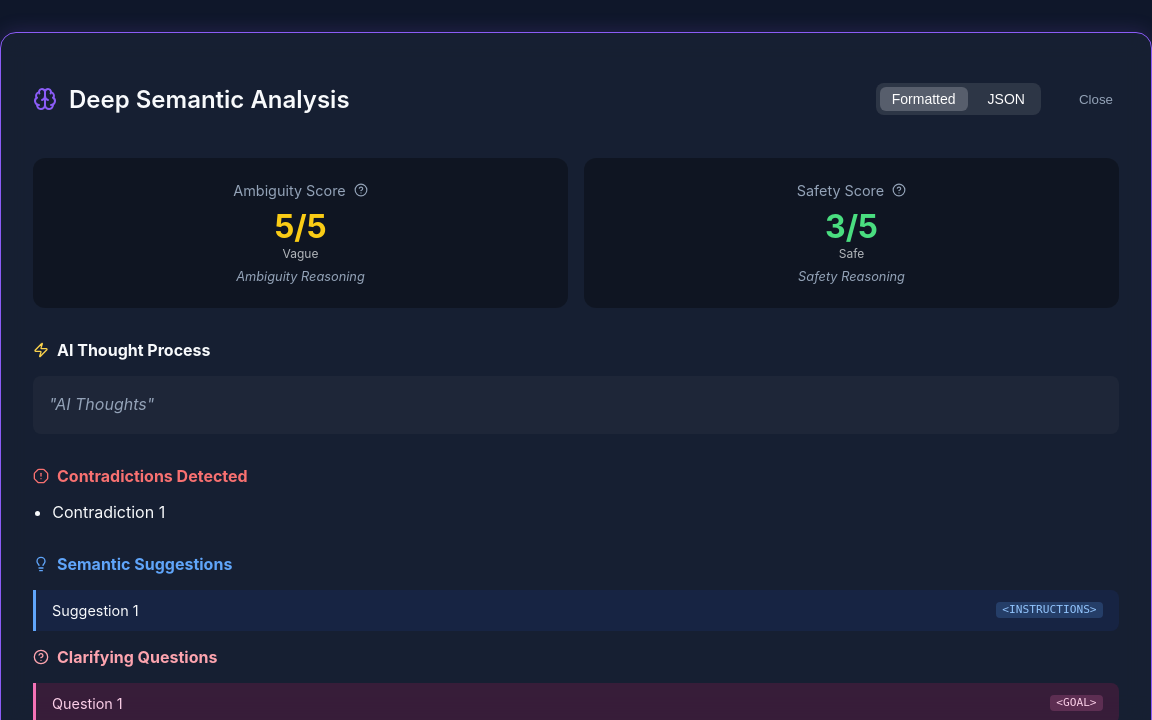
Test case: DeepAnalysisResults Component › shows tooltips on hover
Hover over the text "Ambiguity Score": (300, 190) [233,182,368,199]
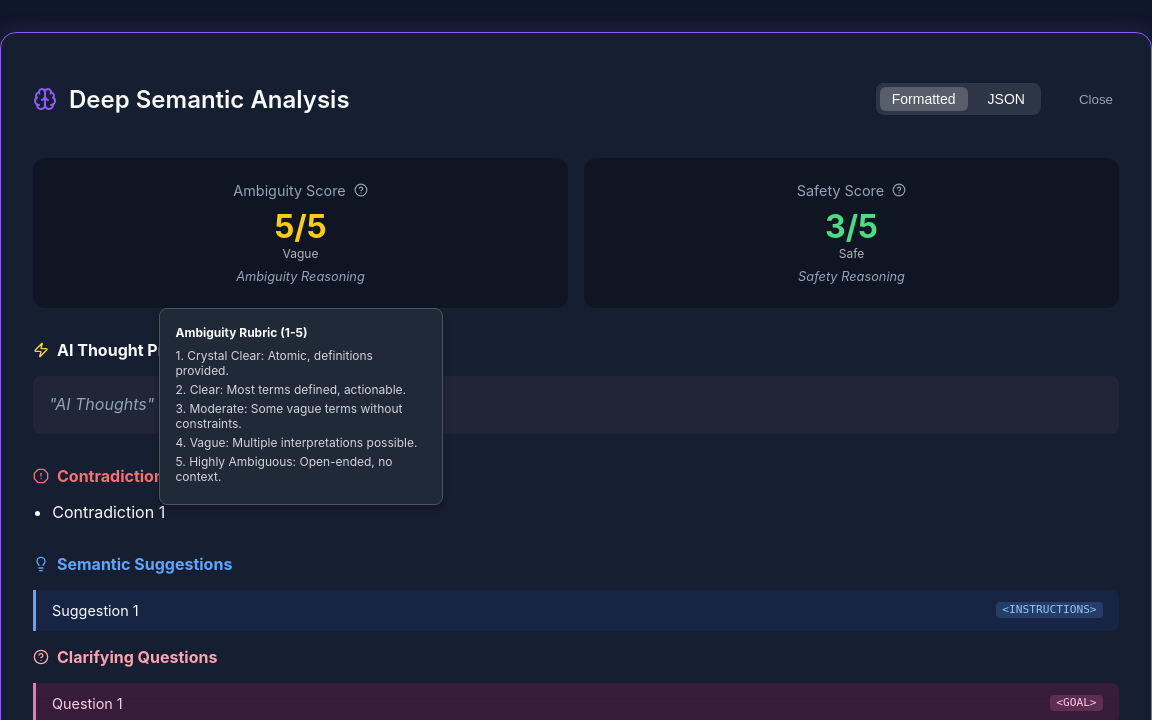
Result: the text "Ambiguity Rubric (1-5)" is shown at [176,325,308,340]
Move the pointer off the text "Ambiguity Score", box [233,182,368,199]
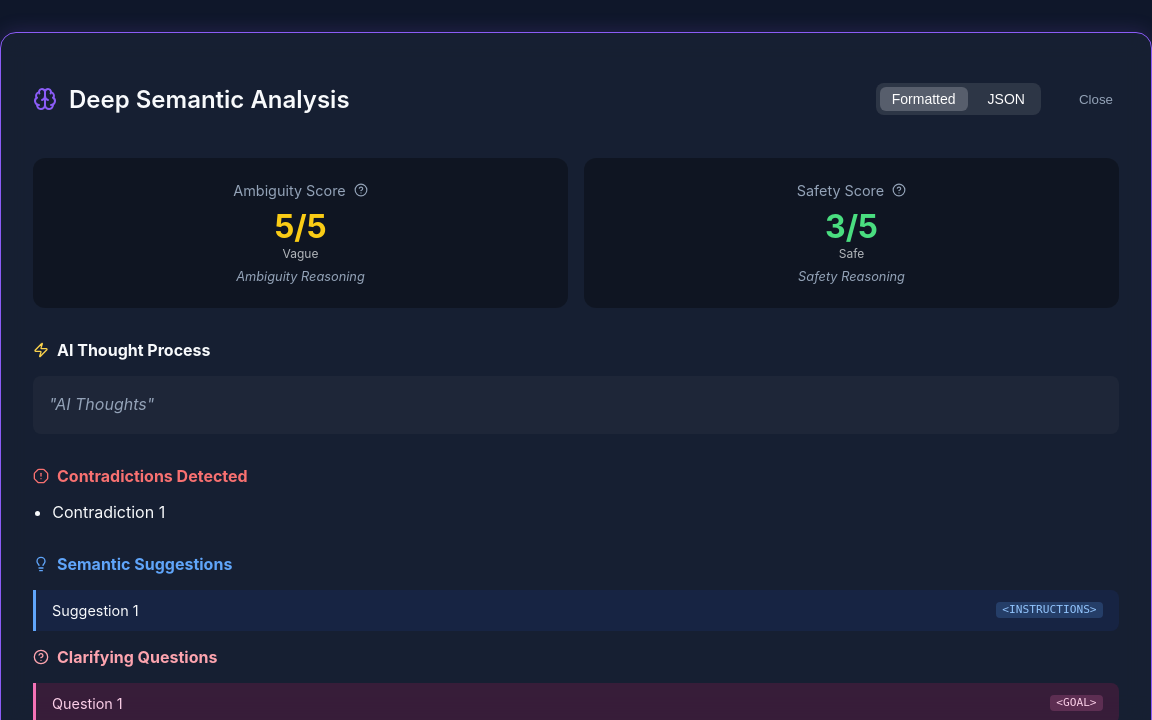
Result: the text "Ambiguity Rubric" is gone
